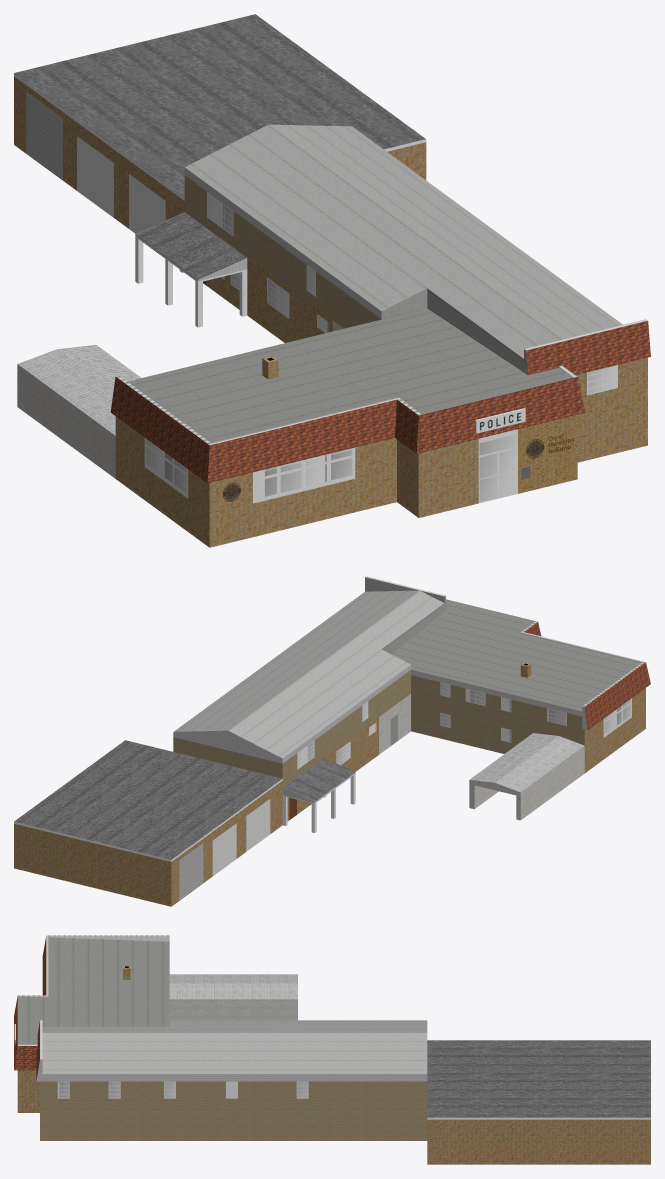
File: hawkins_police_station.glb
3 renders of one model, top to bottom at view 1: azimuth 30°, elevation 25°; view 2: azimuth 150°, elevation 25°; view 3: azimuth 270°, elevation 25°, orthographic. The views are drawn at different scales.
Visible parts, largest first — view 1: Material2 (×14); view 2: Material2 (×13); view 3: Material2 (×12).
Part boxes in pixels (x1=…): Material2 (×14): x1=14, y1=14, x2=650, y2=547; Material2 (×13): x1=14, y1=576, x2=650, y2=906; Material2 (×12): x1=14, y1=935, x2=650, y2=1164.
Size of the model in its own units: 1024 by 238 by 1683.
21 materials, 17 textured.
